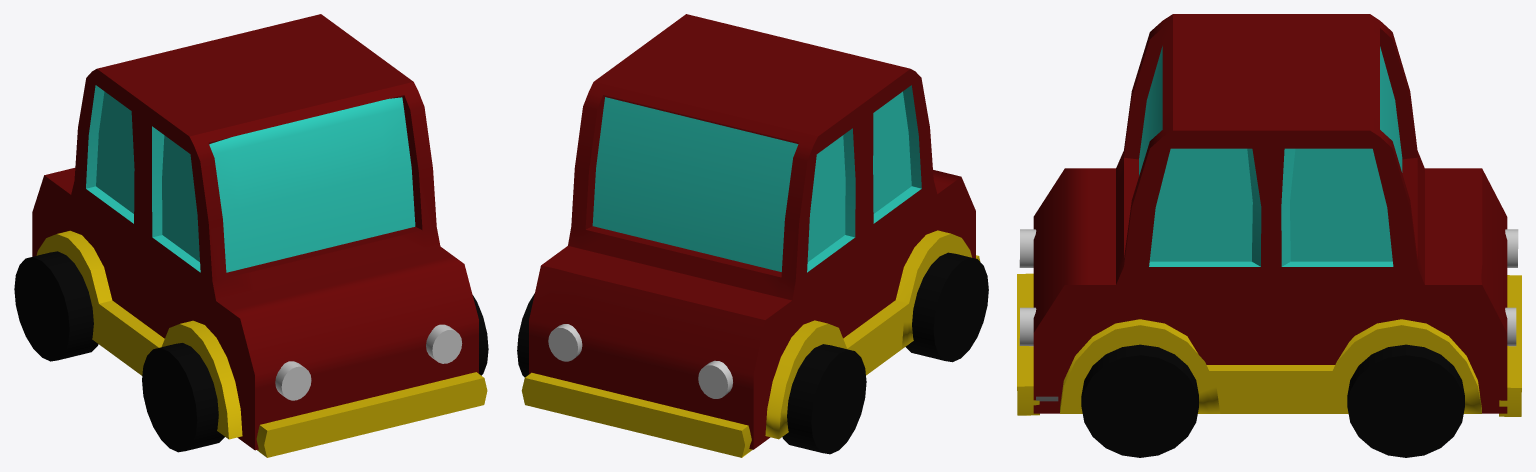
File: Car.fbx
The picture shows the model from 3 angles, left to right: view 1: azimuth 30°, elevation 25°; view 2: azimuth 150°, elevation 25°; view 3: azimuth 270°, elevation 25°; orthographic projection. The views are drawn at different scales.
Visible parts, largest first — view 1: pCube1, pasted__pCylinder3, pasted__pasted__pCylinder3, RightWheelBack; view 2: pCube1, pasted__pCylinder3, pasted__pasted__pCylinder3, RightWheelFront; view 3: pCube1, RightWheelFront, RightWheelBack.
Boxes of the visible parts, left/top/right/bottom form: pCube1: left=32, top=14, right=487, bottom=457; pasted__pCylinder3: left=14, top=251, right=98, bottom=361; pasted__pasted__pCylinder3: left=142, top=343, right=224, bottom=452; RightWheelBack: left=472, top=295, right=488, bottom=375; pCube1: left=521, top=14, right=980, bottom=457; pasted__pCylinder3: left=782, top=344, right=866, bottom=454; pasted__pasted__pCylinder3: left=905, top=252, right=988, bottom=362; RightWheelFront: left=517, top=293, right=534, bottom=377; pCube1: left=1017, top=14, right=1521, bottom=416; RightWheelFront: left=1347, top=344, right=1464, bottom=457; RightWheelBack: left=1081, top=344, right=1198, bottom=457.
Bounding box in the file's own units: 0.9533 × 0.905 × 1.33.
